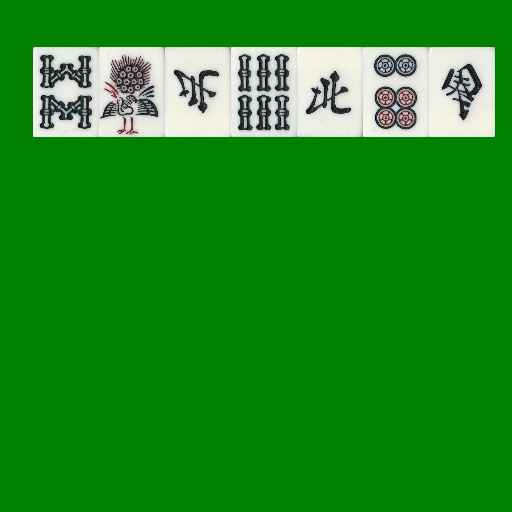1s: (99, 47, 165, 137)
6p: (363, 47, 429, 137)
6s: (231, 47, 297, 137)
8s: (33, 47, 99, 137)
north: (165, 47, 231, 137), (297, 47, 363, 137)
south: (429, 47, 495, 137)
